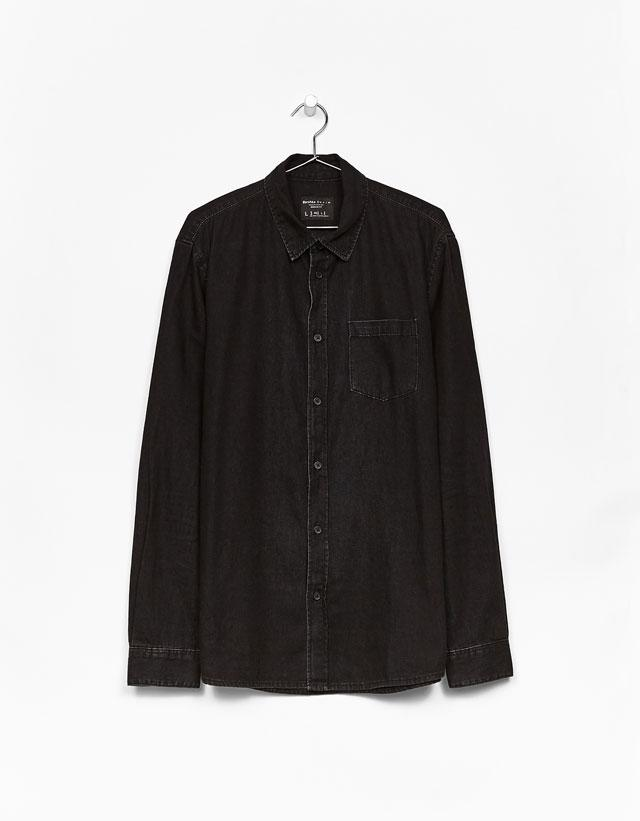teeshirt: (128, 155, 518, 701)
